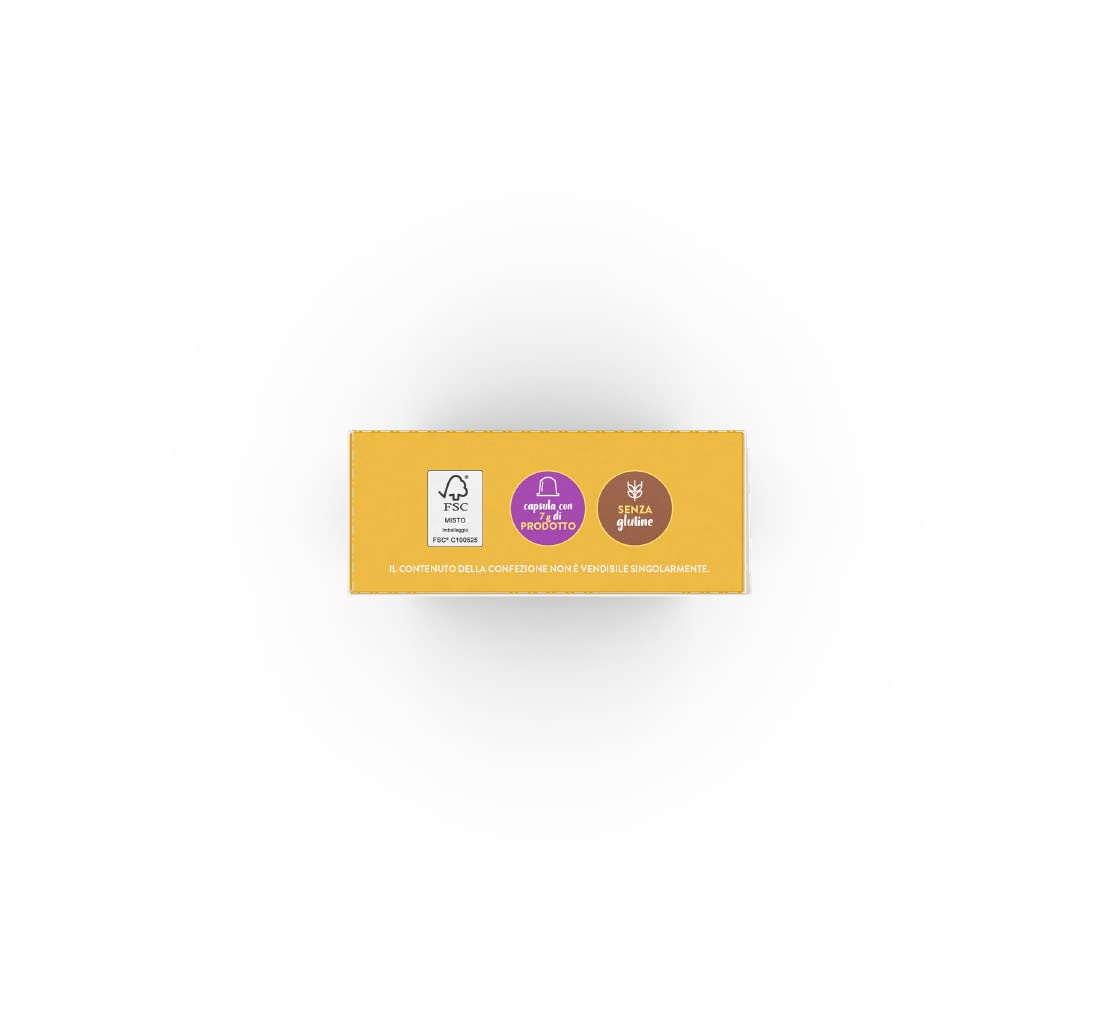DELLA: (459, 565, 485, 572)
FSC: (443, 502, 468, 511)
